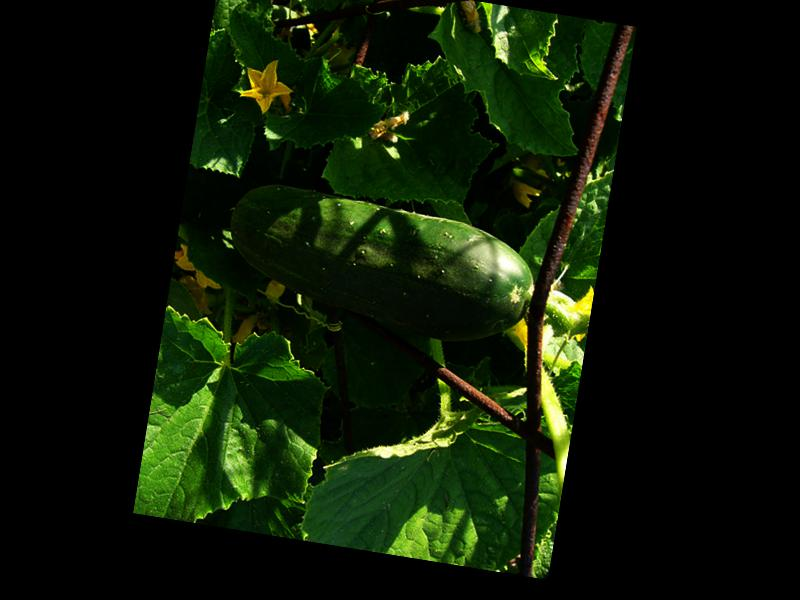Cucumber: (215, 177, 543, 355)
